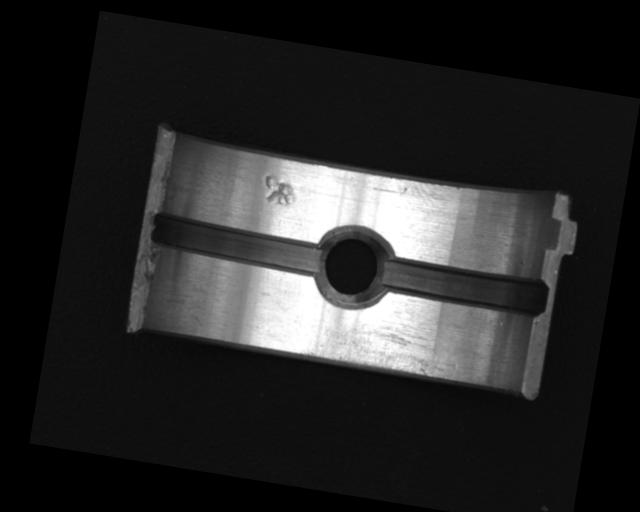bruise: (260, 173, 300, 209)
gap: (145, 206, 329, 279), (376, 253, 550, 318)
hole: (308, 219, 396, 314)
scratch: (297, 308, 465, 382)
